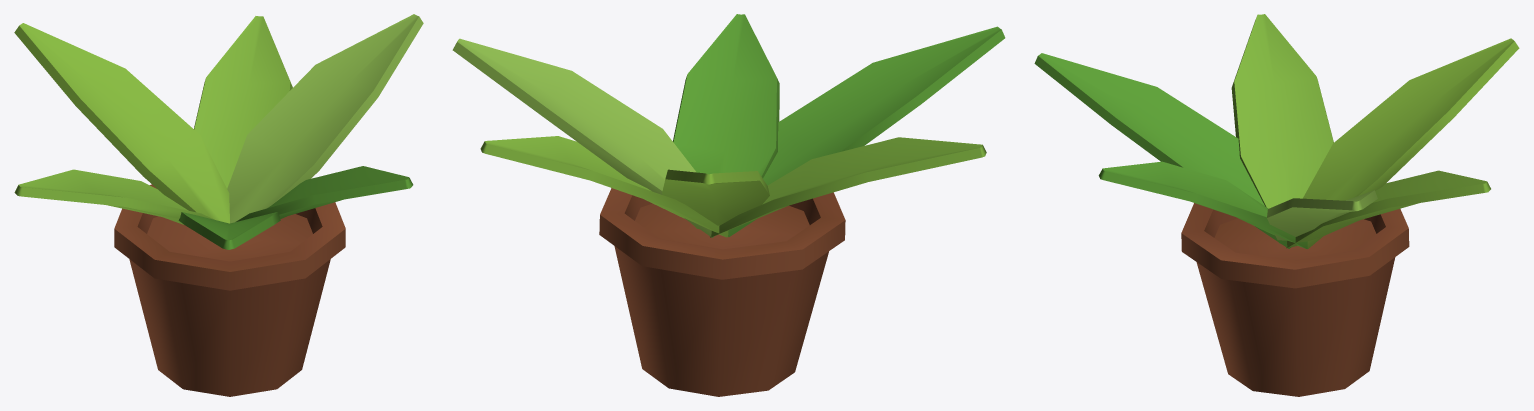
Rendered from yard_pot_a.glb.
3 views of the same model, side by side, from view 1: azimuth 30°, elevation 25°; view 2: azimuth 150°, elevation 25°; view 3: azimuth 270°, elevation 25° (orthographic). The views are drawn at different scales.
Visible parts, largest first — view 1: yard_pot_a; view 2: yard_pot_a; view 3: yard_pot_a.
Boxes of the visible parts, left/top/right/bottom form: yard_pot_a: left=14, top=14, right=423, bottom=396; yard_pot_a: left=452, top=14, right=1005, bottom=396; yard_pot_a: left=1034, top=14, right=1519, bottom=396.
Size of the model in its own units: 0.9997 by 0.6054 by 0.9447.
